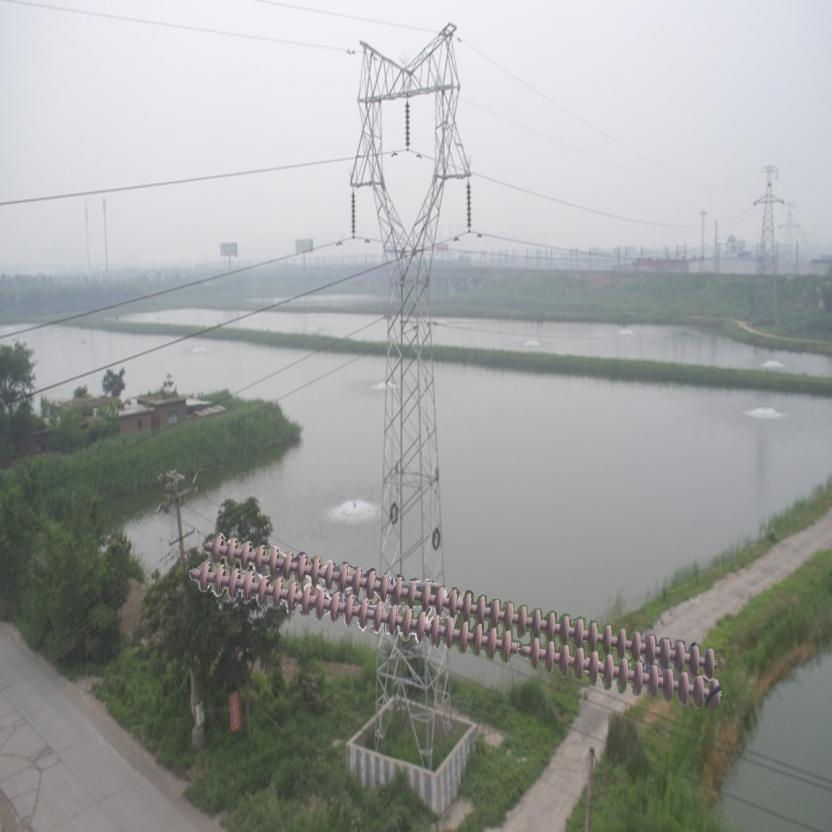defect: (495, 625, 546, 668)
